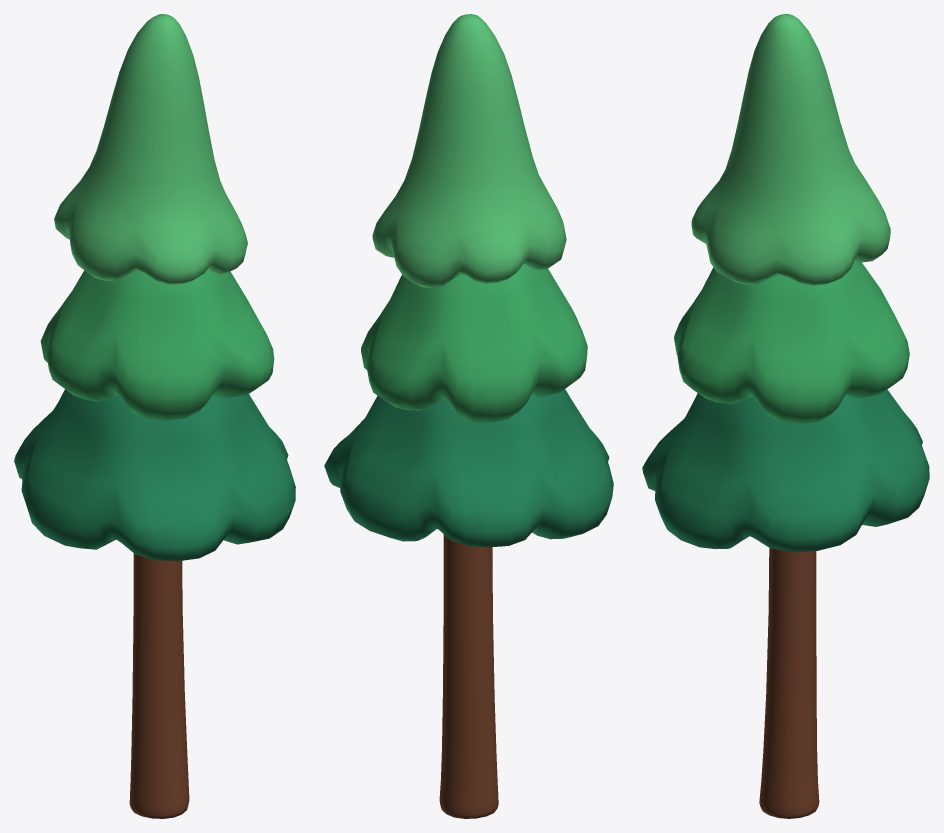
File: Conifer_05.fbx
The picture shows the model from 3 angles, left to right: view 1: azimuth 30°, elevation 25°; view 2: azimuth 150°, elevation 25°; view 3: azimuth 270°, elevation 25°; orthographic projection.
Parts seen in each view (by area): view 1: Conifer_05_LOD0; view 2: Conifer_05_LOD0; view 3: Conifer_05_LOD0.
Boxes of the visible parts, x1,y1,x2,y2 form: Conifer_05_LOD0: (14, 14, 295, 818); Conifer_05_LOD0: (324, 14, 613, 818); Conifer_05_LOD0: (642, 14, 929, 818).
Size of what is drawn, in the model's own units: 542 by 1634 by 536.
